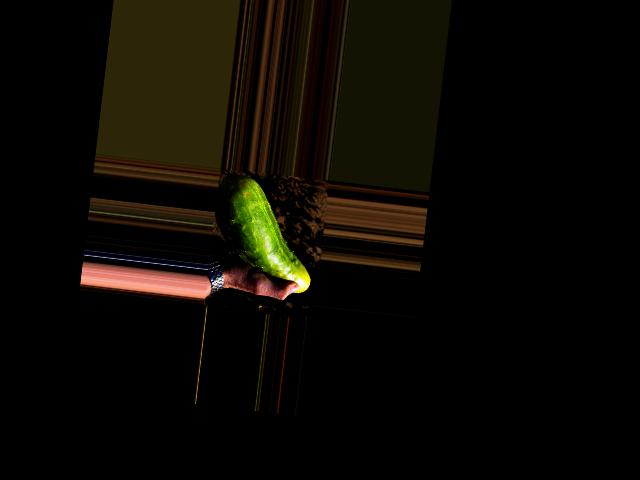cucumber: (205, 171, 321, 294)
